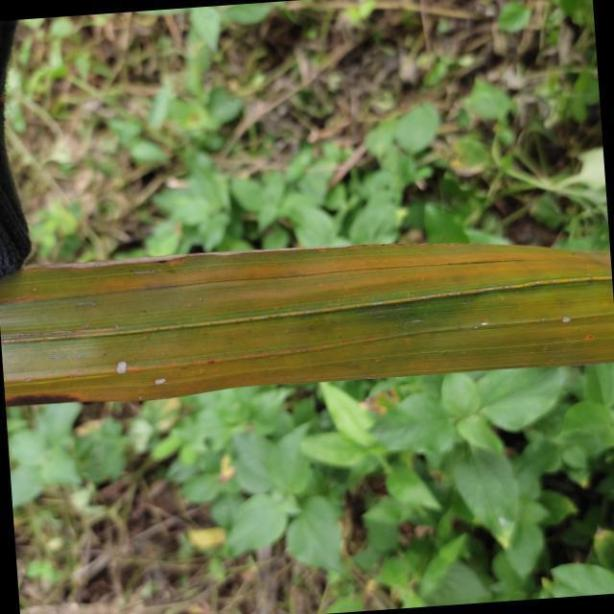Megnesium: (1, 233, 614, 406)
